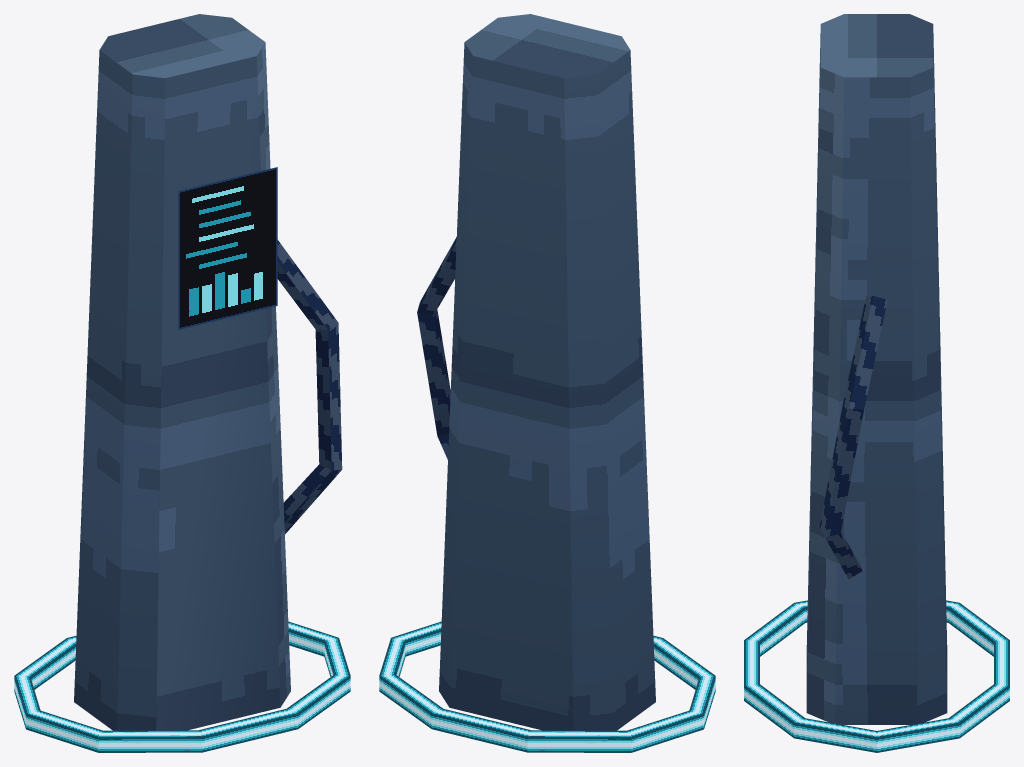
File: cytech.charger.glb
3 views of the same model, side by side, from view 1: azimuth 30°, elevation 25°; view 2: azimuth 150°, elevation 25°; view 3: azimuth 270°, elevation 25° (orthographic). The views are drawn at different scales.
Visible parts, largest first — view 1: kit_post, kit_card_screen, kit_ring; view 2: kit_post, kit_ring; view 3: kit_post, kit_ring.
Boxes of the visible parts, x1,y1,x2,y2 form: kit_post: [74, 14, 342, 730]; kit_card_screen: [178, 167, 277, 329]; kit_ring: [14, 621, 350, 752]; kit_post: [417, 14, 655, 730]; kit_ring: [379, 621, 715, 752]; kit_post: [806, 14, 947, 724]; kit_ring: [744, 600, 1009, 752].
Bounding box in the file's own units: 0.7554 × 1.5 × 0.5669.
Materials: 5 (5 with a texture image).
